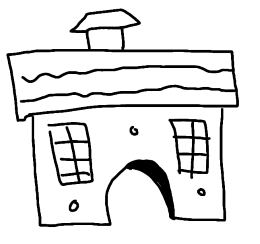big_house: (2, 1, 260, 244)
chimney: (67, 6, 142, 61)
closed_window: (45, 118, 95, 191), (168, 114, 212, 179)
door: (100, 157, 179, 229)
roof: (4, 43, 246, 121)
wall: (27, 102, 231, 230)
